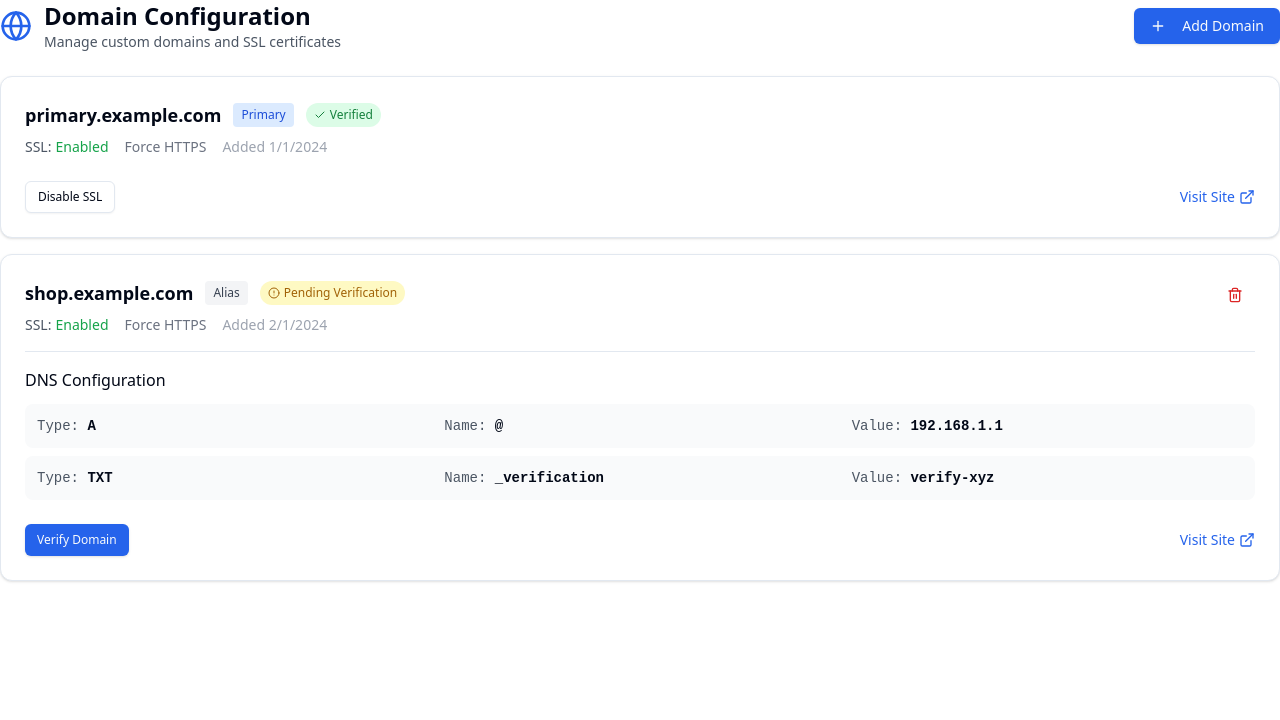
Test: DomainConfiguration › prevents adding duplicate domains
Click the button with test id "add-domain-btn". click: (1207, 26)
box: top-left (1134, 8), bottom-right (1279, 44)
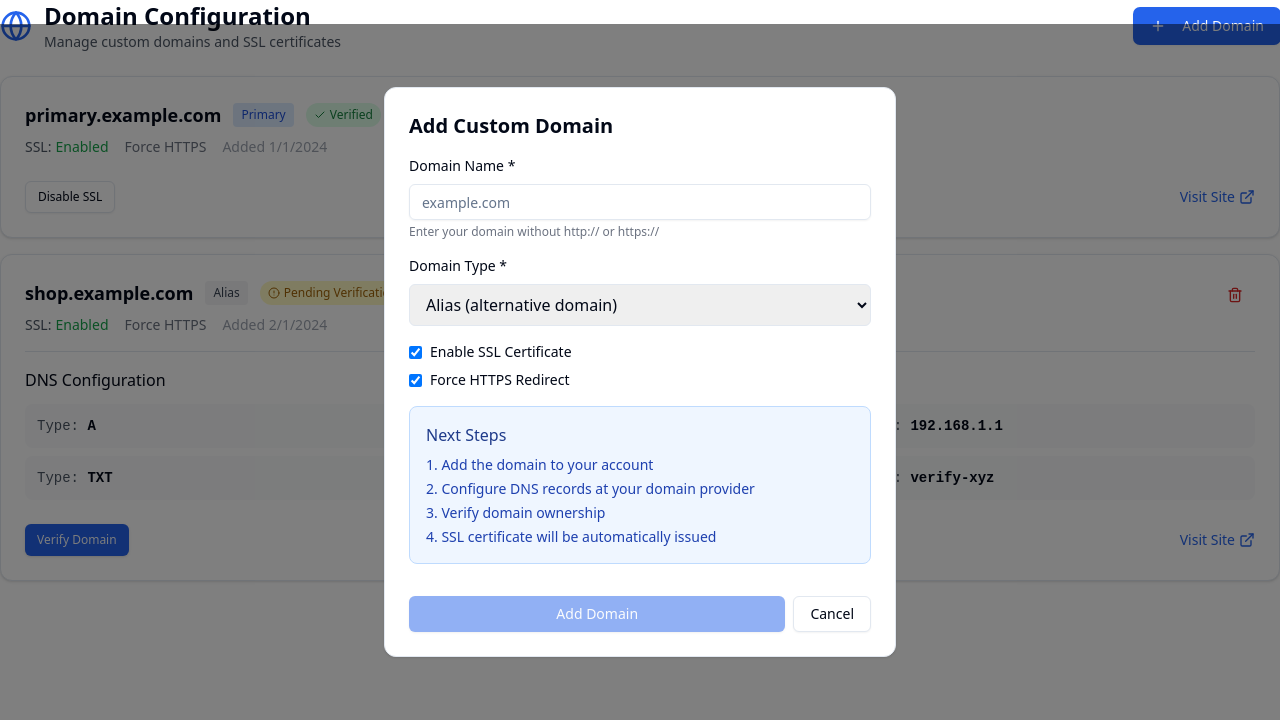
Type "shop.example.com" into the field with test id "domain-input". click: (640, 202)
box: top-left (409, 184), bottom-right (871, 220)
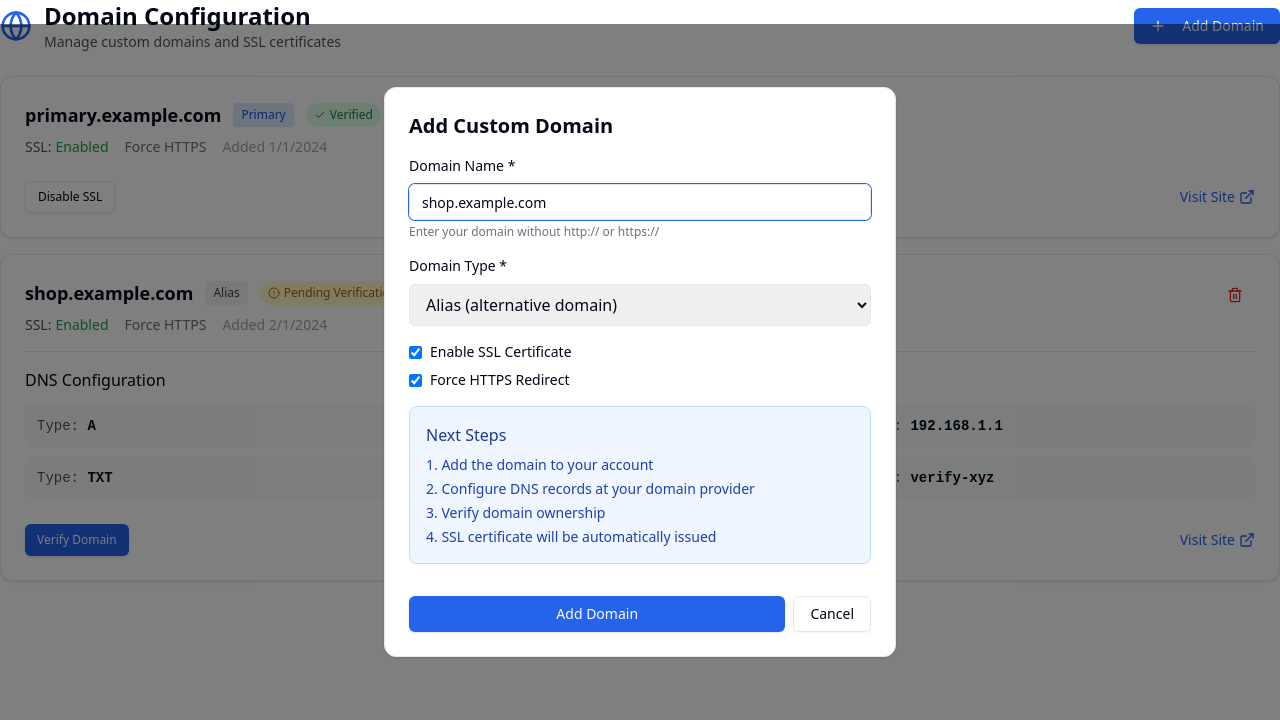
Click the button with test id "save-domain-btn". click: (597, 614)
box: top-left (409, 596), bottom-right (785, 632)
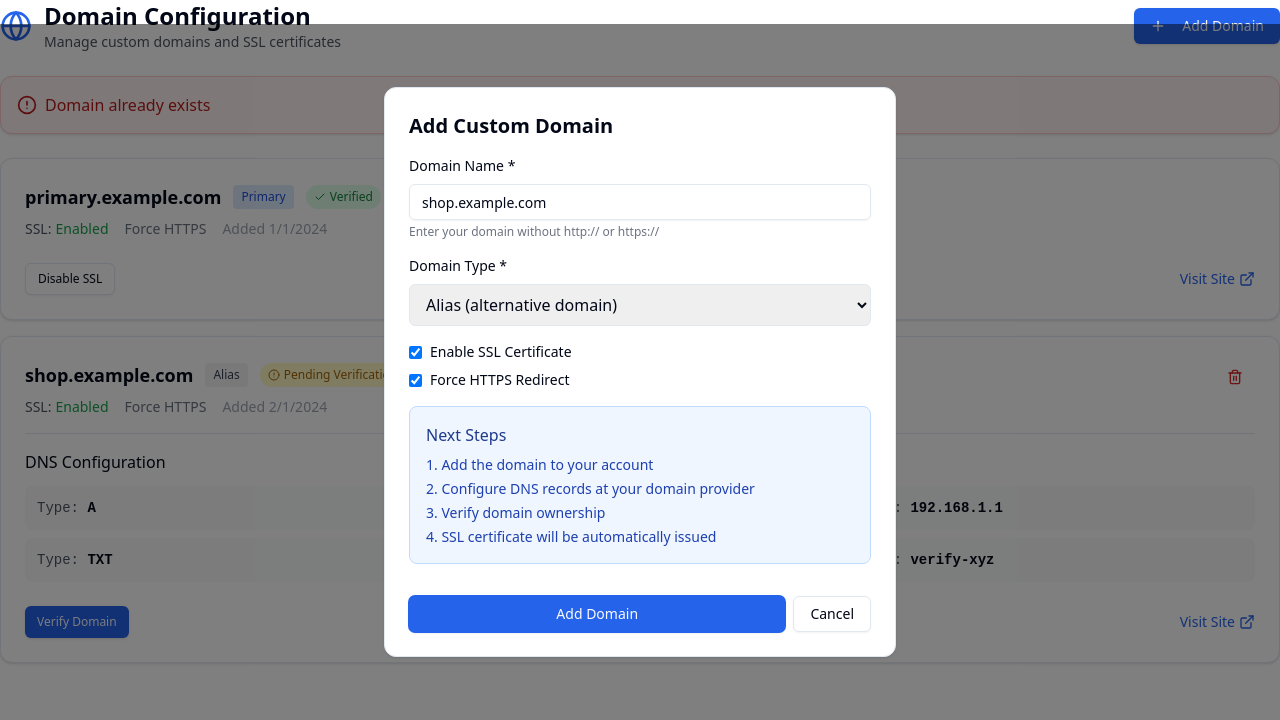
Result: the element with test id "error-message" reads "Domain already exists" at top-left (45, 94), bottom-right (210, 116)
